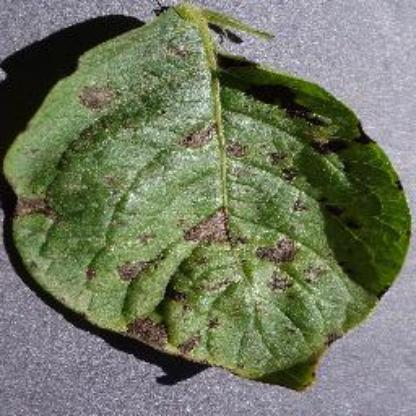Early-Blight: (4, 5, 408, 390)
